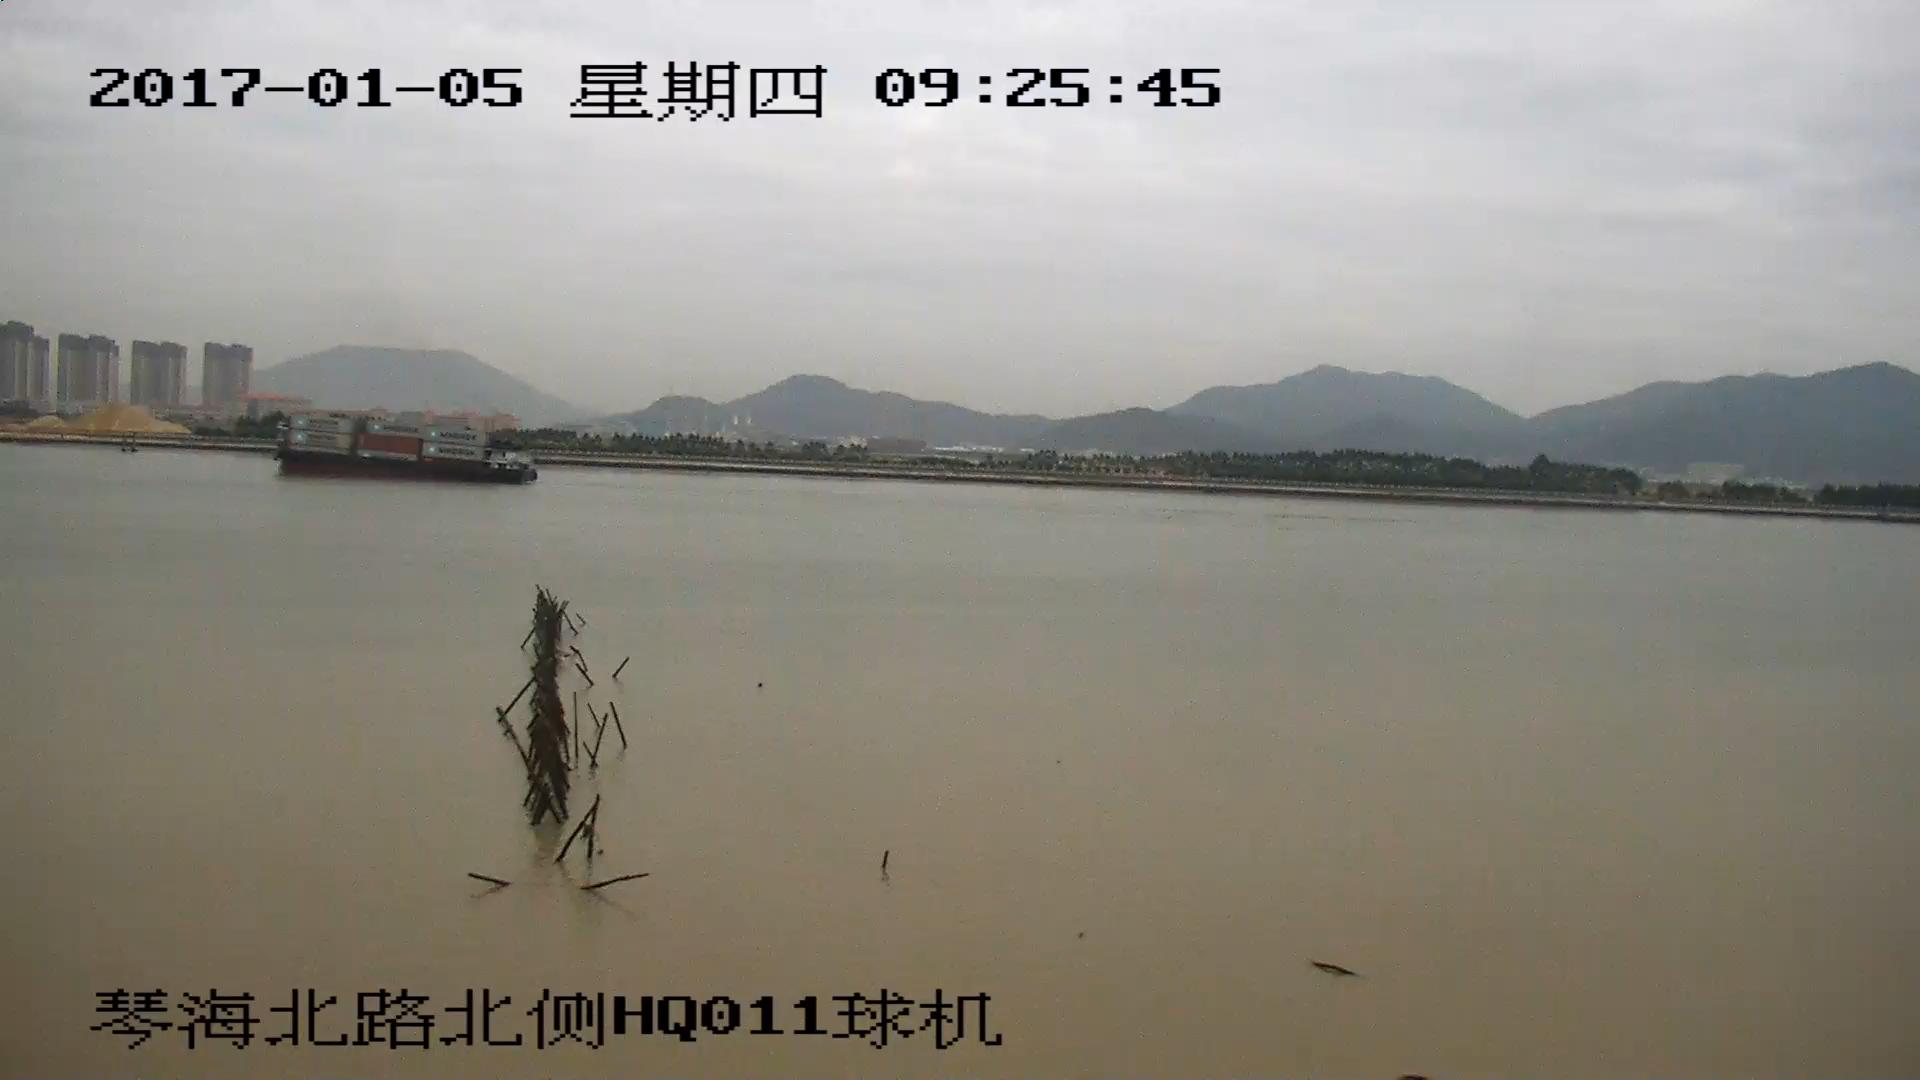container ship: (270, 415, 540, 484)
